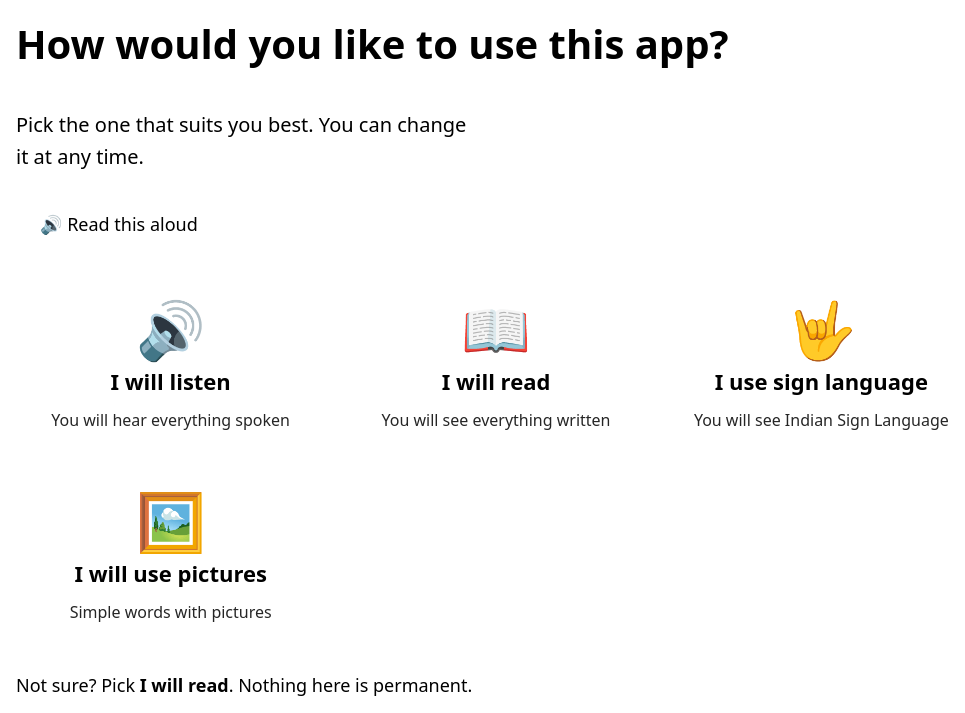
Test: the confirmation stage › lets a learner go back and change their door
Click the button "📖 I will read You will see everything written" at (496, 367), box x1=341 y1=279 x2=651 y2=455
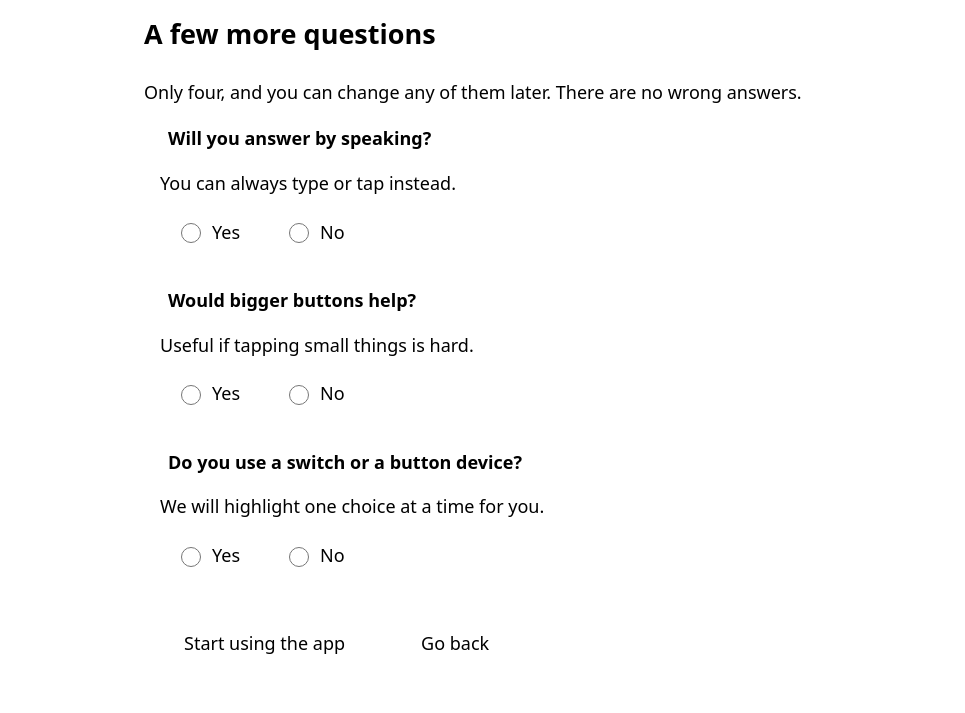
Now the heading "A few more questions" is shown, box x1=144 y1=15 x2=436 y2=52
Click the button "Go back" at (455, 644), box x1=397 y1=617 x2=513 y2=670
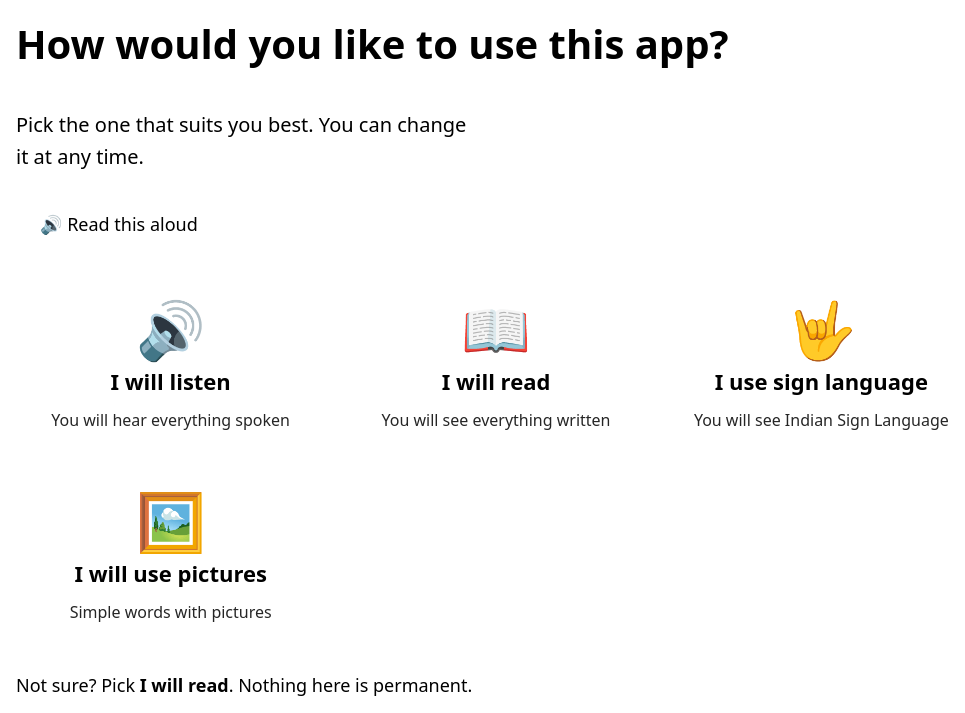
Now the heading "How would you like to use this app?" is shown, box x1=16 y1=16 x2=729 y2=71
